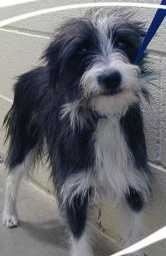Dog: (3, 13, 150, 237)
